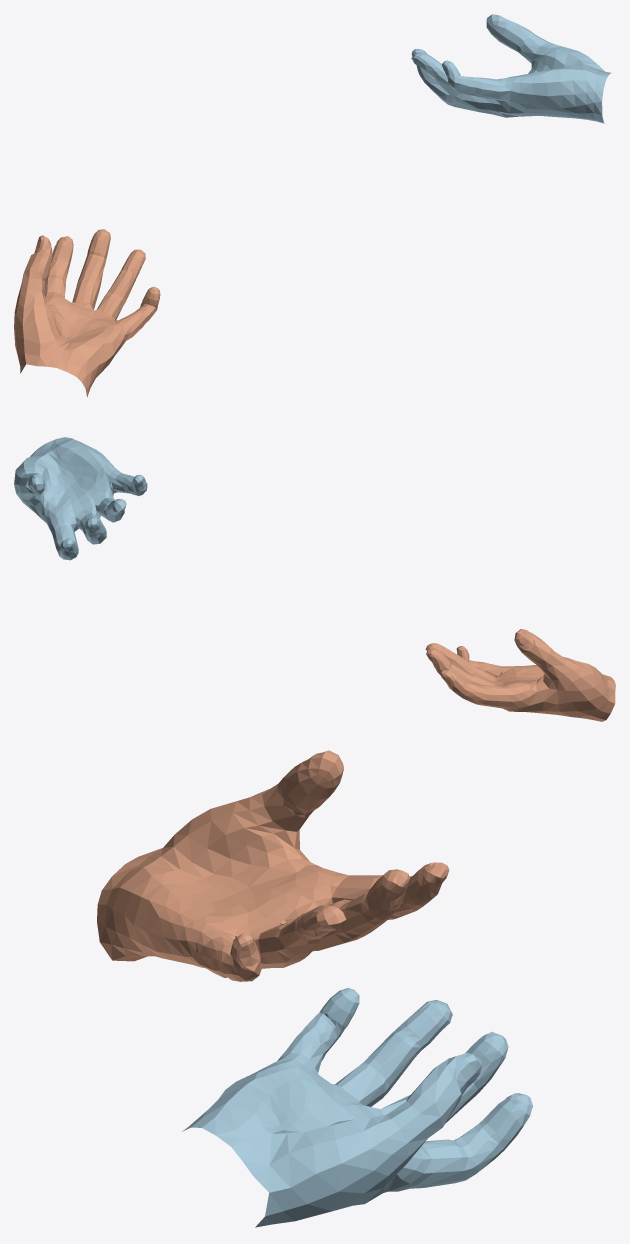
Rendered from frame_024.glb.
3 views of the same model, one above another, from view 1: azimuth 30°, elevation 25°; view 2: azimuth 150°, elevation 25°; view 3: azimuth 270°, elevation 25° (orthographic). The views are drawn at different scales.
Visible parts, largest first — view 1: world; view 2: world; view 3: world.
Boxes of the visible parts, <box> form: world: <box>14,14,611,397</box>; world: <box>14,437,615,721</box>; world: <box>97,750,532,1227</box>.
Size of the model in its own units: 0.5353 by 0.1671 by 0.1775.
